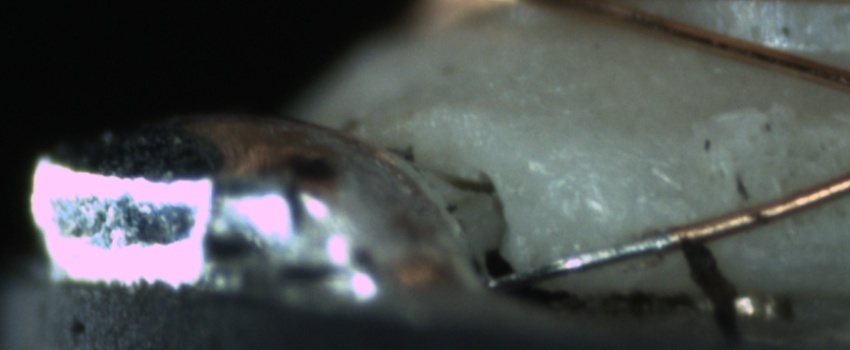TS: (482, 227, 676, 287)
